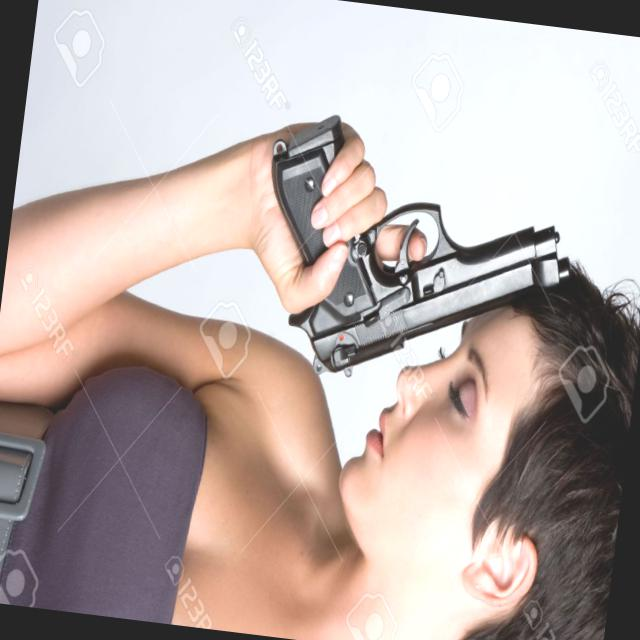handgun: (243, 95, 596, 402)
